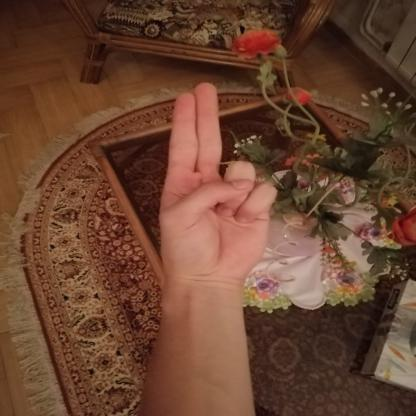TA: (135, 68, 286, 296)
